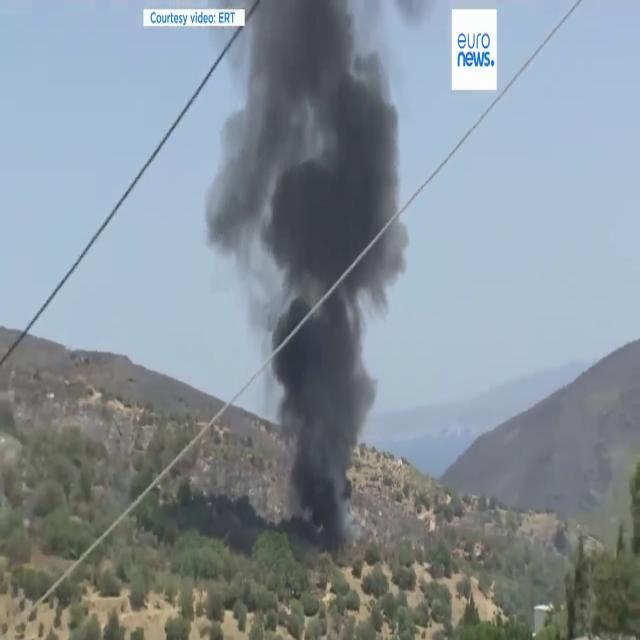Smoke: (206, 0, 416, 521)
